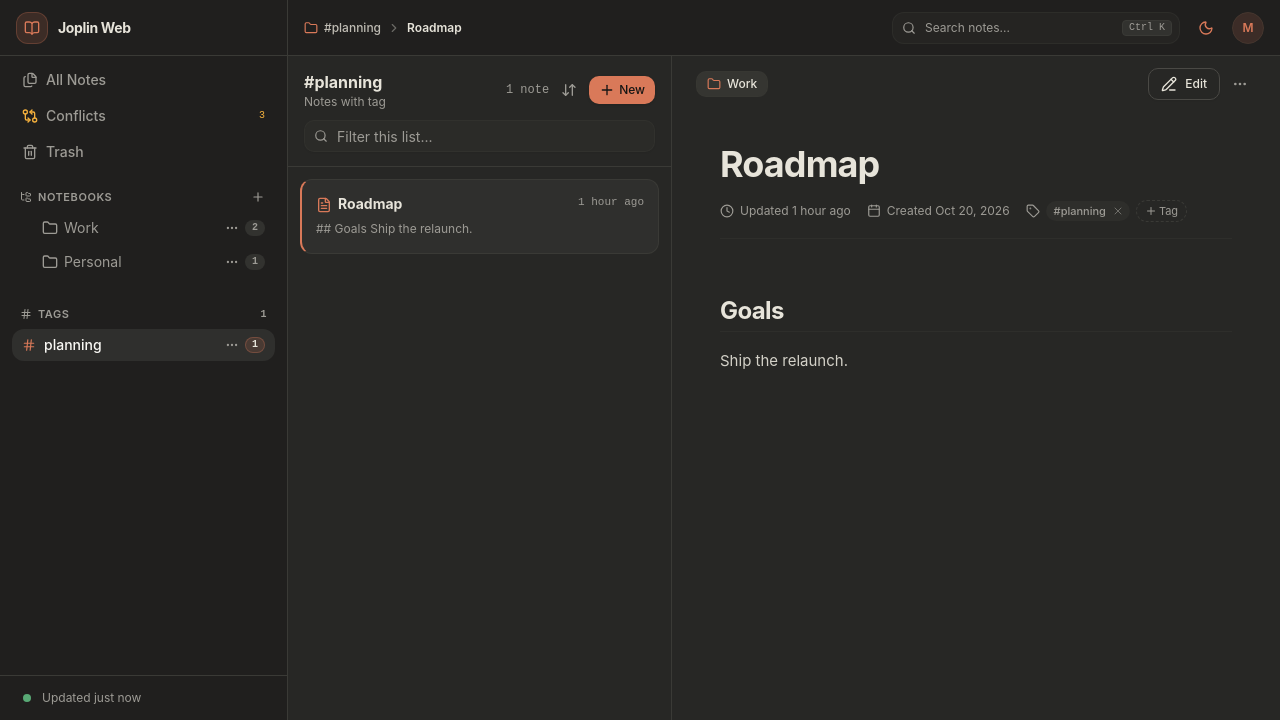
Scenario: NotesPage › switches to a notebook from the sidebar and keeps the open note on desktop
Click the button named "Personal, 1 note" at (128, 262), box [42,252,215,272]
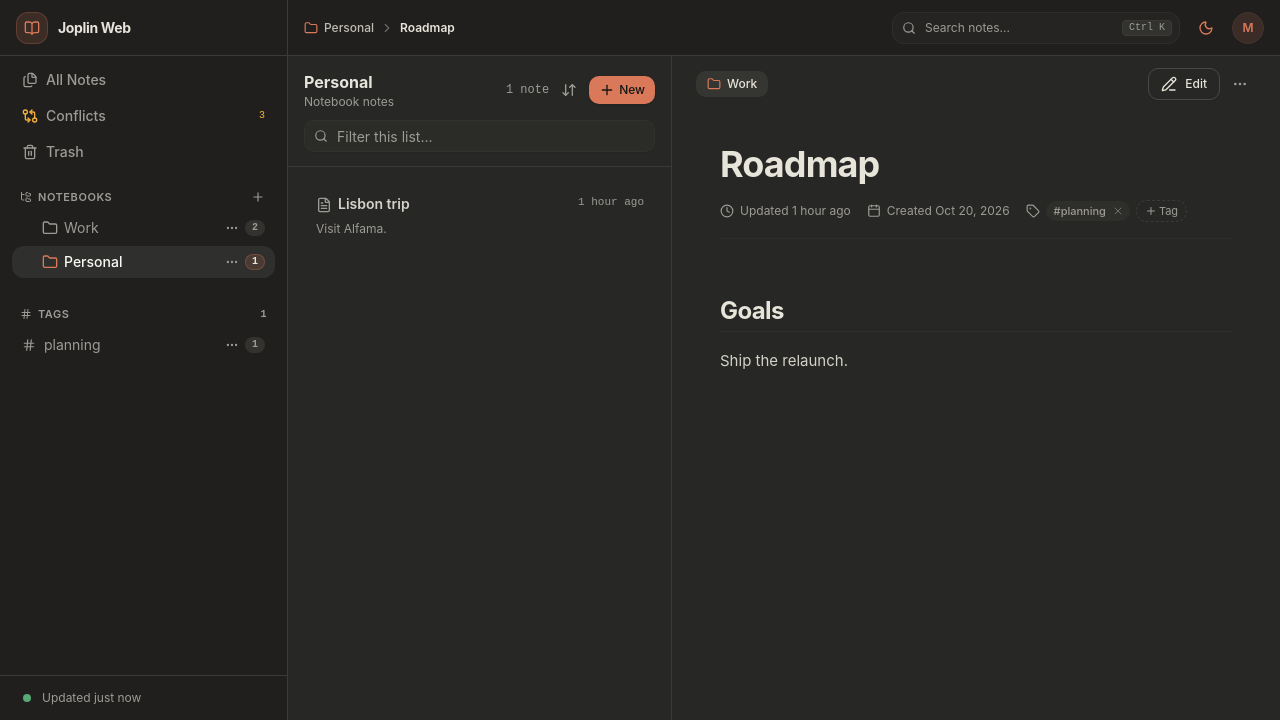
Expected: the heading "Lisbon trip" is shown, [338,194,410,213]
